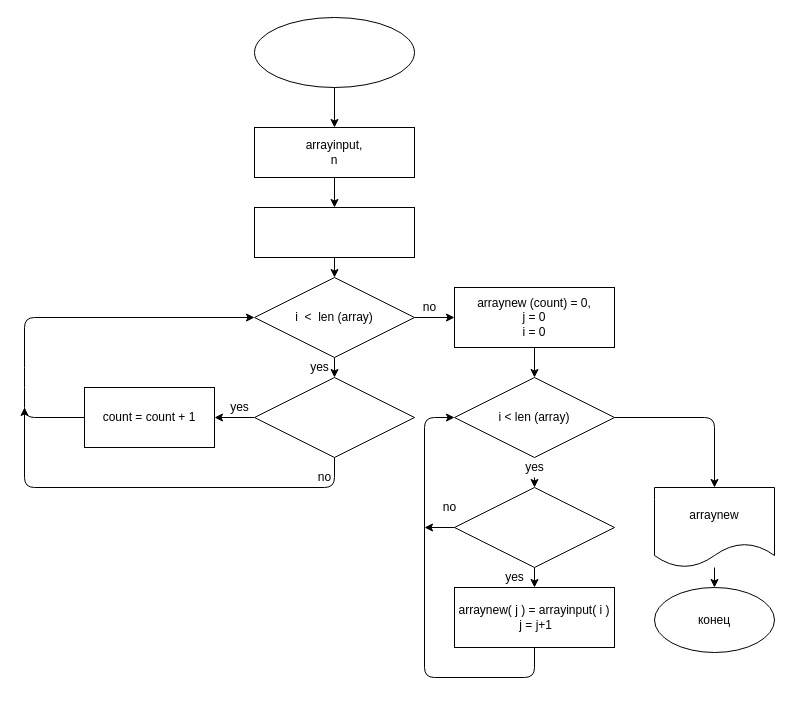
The diagram is 792 pixels wide and 703 high, and some of its shapes have lost their labels. The centre of each missing label's shape, as x and y in pixels:
"i = 0, count = 0" goes at point 334,232.
"len ( array ( i )) <= n" goes at point 534,527.
"len ( array( i )) <= n" goes at point 334,417.
"начало" goes at point 334,52.
